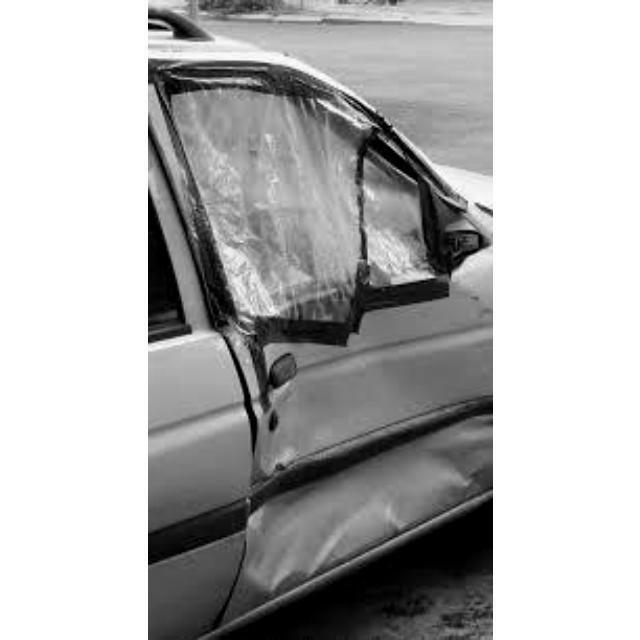Sidemirror-Damage: (414, 183, 492, 294)
doorouter-dent: (237, 292, 490, 619), (168, 69, 409, 325)
